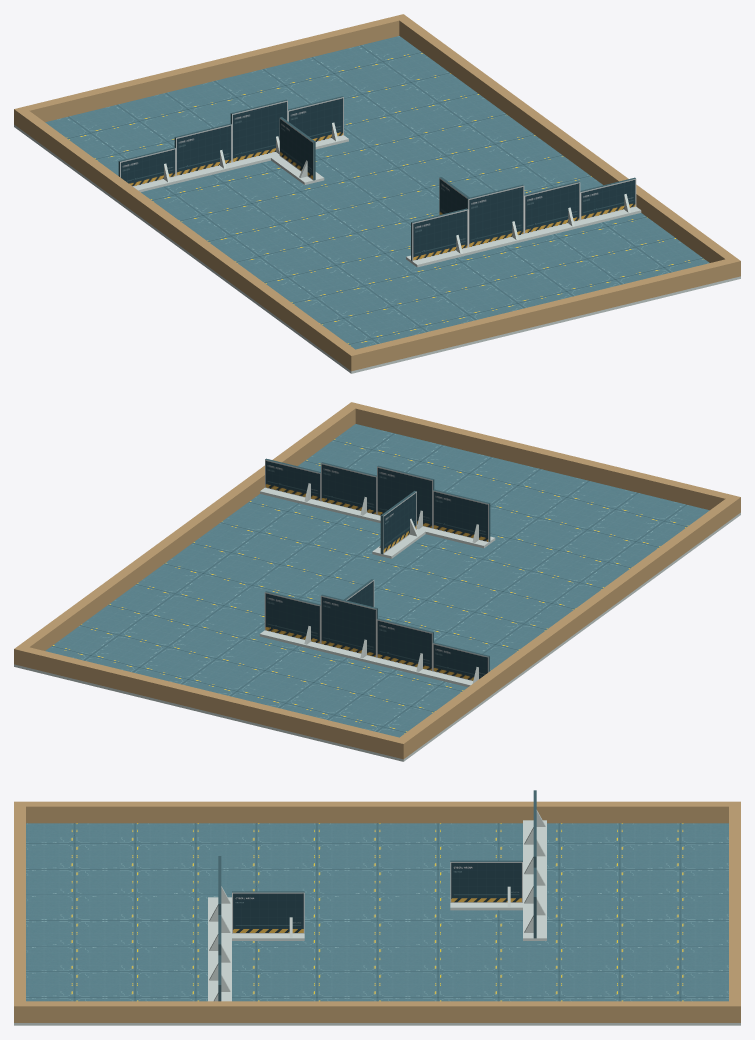
File: cyber_arena_80x120_textured.glb
3 renders of one model, top to bottom at view 1: azimuth 30°, elevation 25°; view 2: azimuth 150°, elevation 25°; view 3: azimuth 270°, elevation 25°, orthographic. The views are drawn at different scales.
Visible parts, largest first — view 1: floor_base, perimeter_back, perimeter_left, perimeter_front, perimeter_right, back_main_3_panel, front_main_3_panel, back_main_4_panel, back_main_2_panel, front_main_2_panel, front_main_4_panel, back_main_1_panel (+3 smaller); view 2: floor_base, perimeter_front, perimeter_left, perimeter_back, perimeter_right, front_main_3_panel, back_main_4_panel, front_main_2_panel, front_main_4_panel, back_main_2_panel, back_main_3_panel, back_main_1_panel (+2 smaller); view 3: floor_base, perimeter_left, perimeter_right, front_T_branch_panel, back_T_branch_panel, perimeter_front, perimeter_back, front_main_4_foot, front_T_branch_foot, back_T_branch_foot, back_main_3_foot, front_main_3_foot (+4 smaller).
Boxes of the visible parts, x1=… form: floor_base: x1=14, y1=36, x2=740, y2=373; perimeter_back: x1=345, y1=257, x2=740, y2=371; perimeter_left: x1=19, y1=111, x2=354, y2=366; perimeter_front: x1=14, y1=14, x2=408, y2=128; perimeter_right: x1=399, y1=18, x2=734, y2=262; back_main_3_panel: x1=467, y1=184, x2=524, y2=247; front_main_3_panel: x1=230, y1=99, x2=287, y2=162; back_main_4_panel: x1=411, y1=208, x2=468, y2=261; back_main_2_panel: x1=524, y1=181, x2=580, y2=233; front_main_2_panel: x1=174, y1=123, x2=231, y2=176; front_main_4_panel: x1=288, y1=96, x2=343, y2=141; back_main_1_panel: x1=580, y1=177, x2=636, y2=220; floor_base: x1=14, y1=424, x2=740, y2=761; perimeter_front: x1=14, y1=645, x2=409, y2=759; perimeter_left: x1=400, y1=499, x2=735, y2=754; perimeter_back: x1=346, y1=402, x2=740, y2=516; perimeter_right: x1=20, y1=406, x2=355, y2=650; front_main_3_panel: x1=320, y1=594, x2=377, y2=657; back_main_4_panel: x1=433, y1=489, x2=490, y2=542; front_main_2_panel: x1=376, y1=618, x2=433, y2=671; front_main_4_panel: x1=264, y1=591, x2=320, y2=643; back_main_2_panel: x1=321, y1=462, x2=376, y2=514; back_main_3_panel: x1=377, y1=465, x2=434, y2=528; back_main_1_panel: x1=265, y1=458, x2=320, y2=501; floor_base: x1=14, y1=823, x2=740, y2=1025; perimeter_left: x1=26, y1=801, x2=728, y2=823; perimeter_right: x1=26, y1=1001, x2=728, y2=1022; front_T_branch_panel: x1=450, y1=860, x2=522, y2=902; back_T_branch_panel: x1=232, y1=891, x2=304, y2=933; perimeter_front: x1=729, y1=801, x2=740, y2=1022; perimeter_back: x1=14, y1=801, x2=25, y2=1022; front_main_4_foot: x1=523, y1=908, x2=546, y2=940; front_T_branch_foot: x1=450, y1=903, x2=522, y2=910; back_T_branch_foot: x1=232, y1=933, x2=304, y2=940; back_main_3_foot: x1=208, y1=926, x2=231, y2=956; front_main_3_foot: x1=523, y1=879, x2=546, y2=908.
Size of the model in its own units: 0.8 by 0.105 by 1.2.
8 materials, 5 textured.
